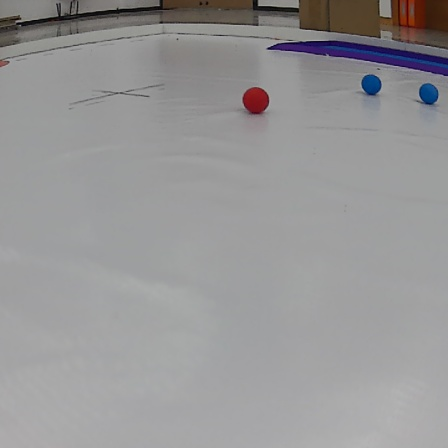blue: (360, 72, 384, 97), (418, 82, 439, 110)
blue_aim: (266, 30, 448, 75)
red: (242, 86, 270, 114)
